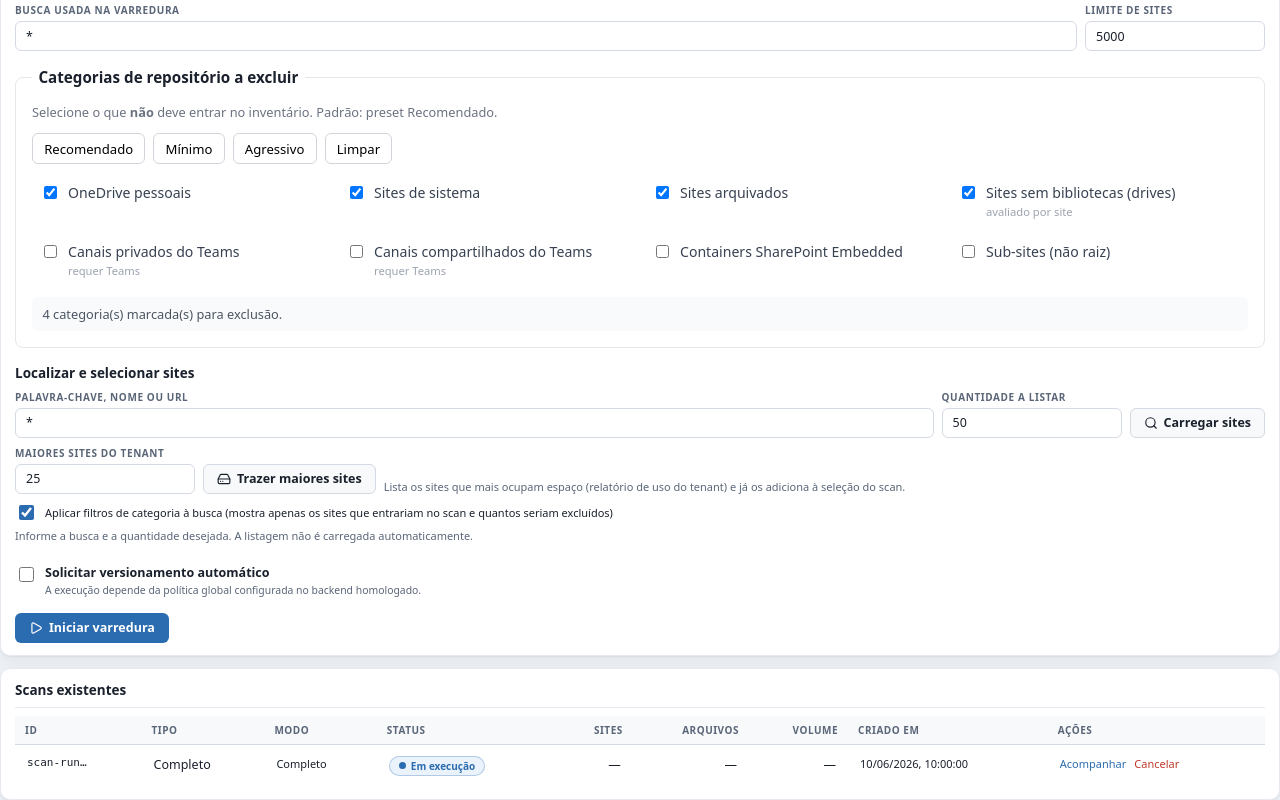
Test case: ScansPage › cancela um scan ativo usando o scanId da listagem
(page scrolled)
Click the button "Cancelar".
click(1157, 763)  # box [1134,756,1179,771]
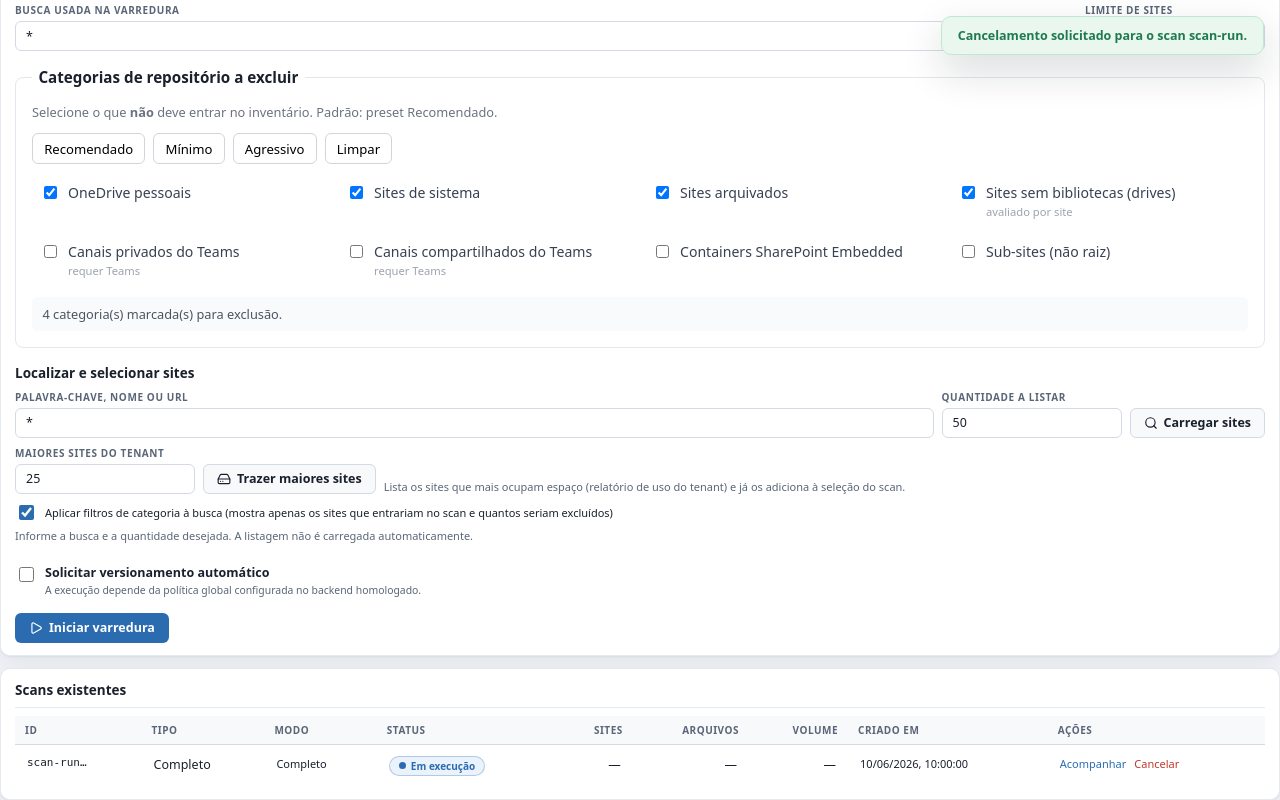
Now the message shows "Cancelamento solicitado", box [958,27,1247,44]
